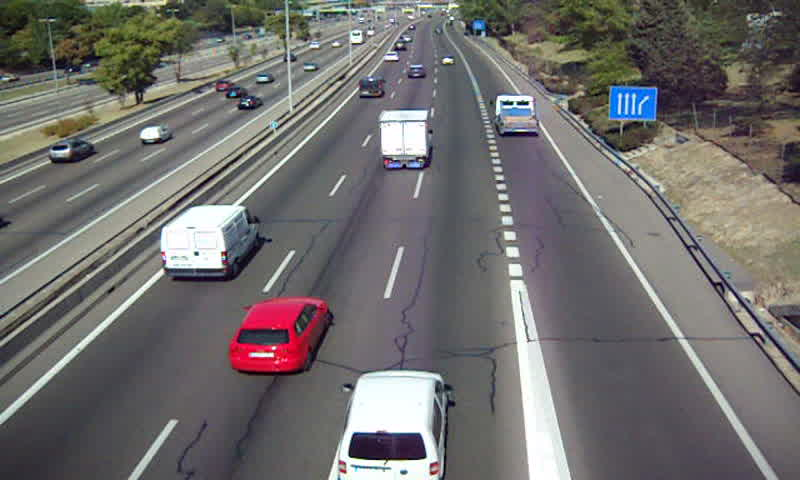car: (336, 370, 446, 480), (230, 297, 328, 373), (406, 63, 426, 80), (383, 50, 399, 64), (440, 55, 457, 67)
small-truck: (378, 110, 431, 170), (492, 94, 539, 134)
van: (156, 205, 260, 279), (357, 75, 386, 100)
